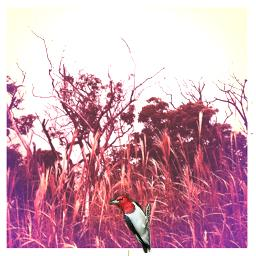Woodpecker: (108, 195, 152, 253)
